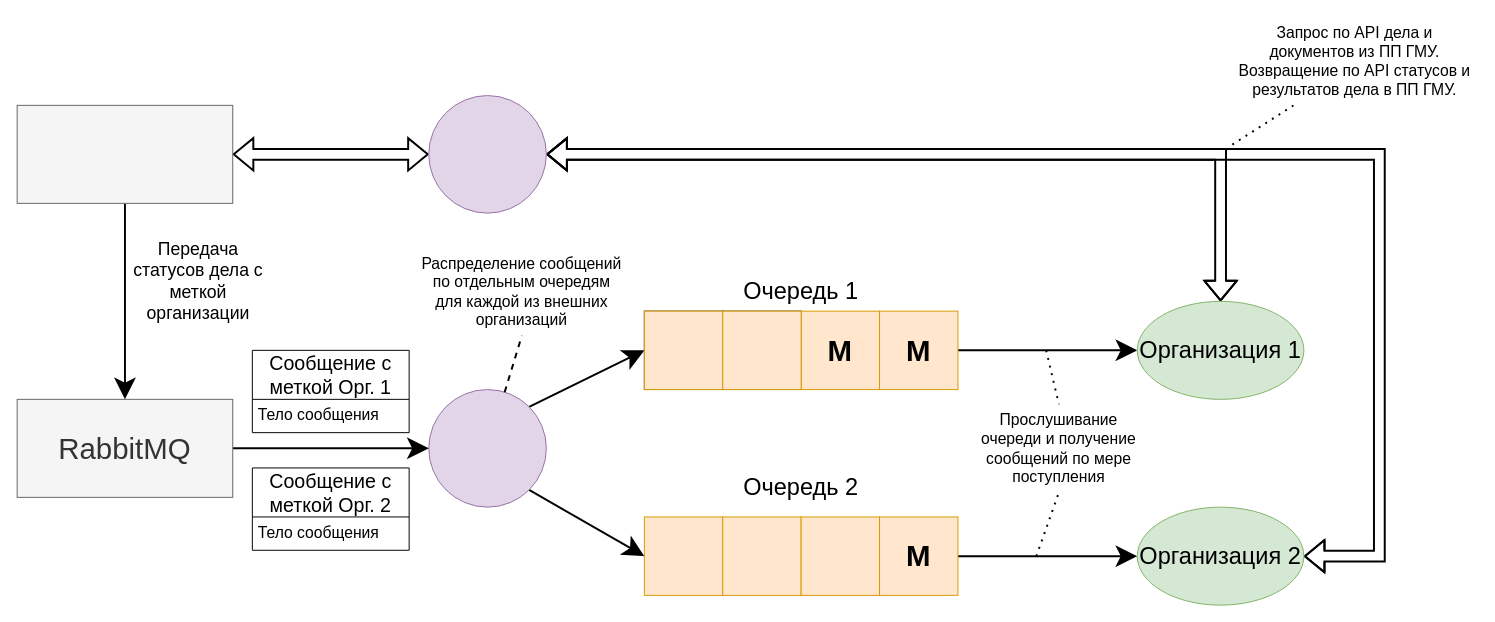
Image size: 1495x622. Some labels were removed from this diagram. Here are the shapes that lost their labels. From the top down, the centre of each, then its label:
At point (124, 153): "ПП ГМУ".
At point (487, 154): "API".
At point (487, 448): "Ex.".
